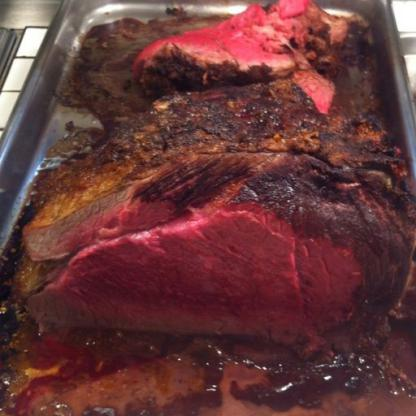beef: (17, 152, 404, 363), (123, 7, 362, 99)
